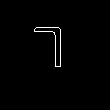L_S: (44, 29, 77, 80)
